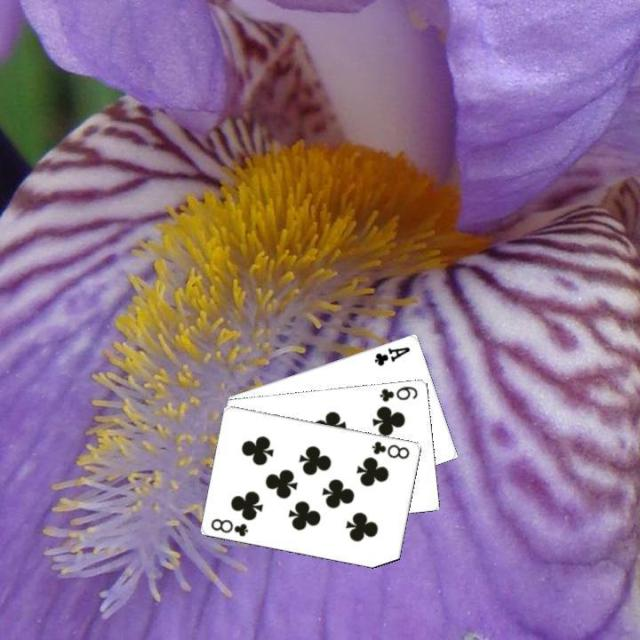6C: (376, 382, 420, 404)
8C: (207, 514, 251, 538), (368, 438, 412, 460)
AC: (370, 342, 412, 367)
